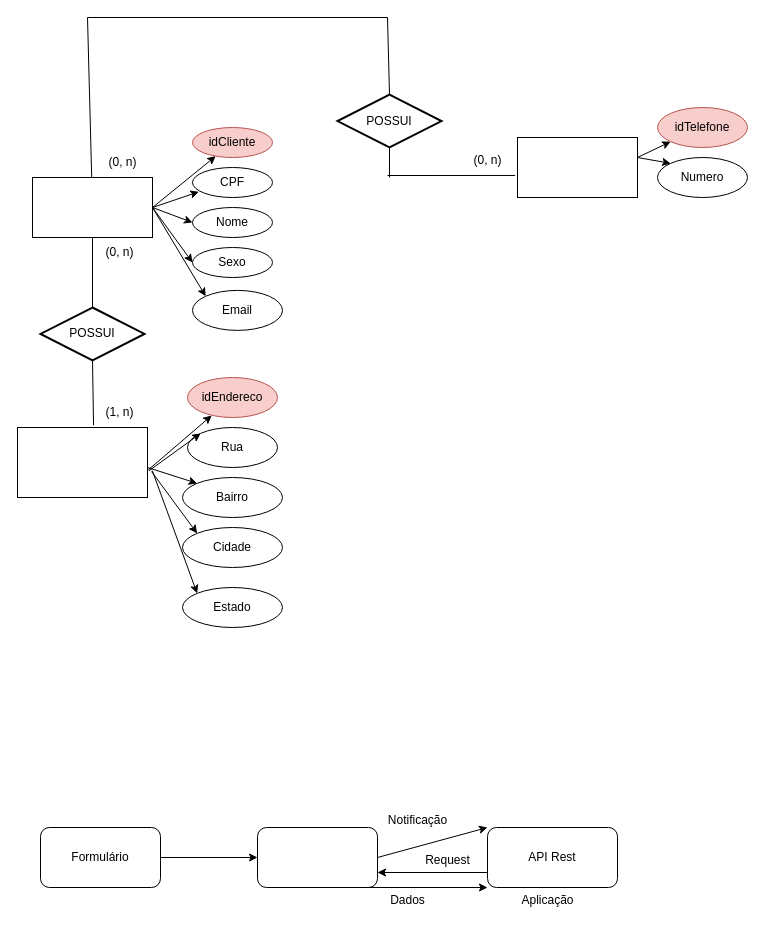
Image size: 765x933. Some labels were removed from this diagram. Here are the shapes that lost their labels. From the top down, the centre of each, then its label:
point 577,167: Telefone
point 92,207: Cliente
point 82,462: Endereco
point 317,857: Business Manager
